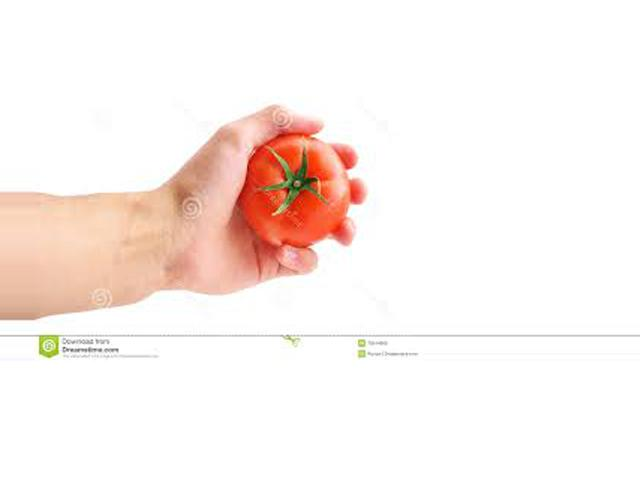tomato: (241, 136, 349, 248)
